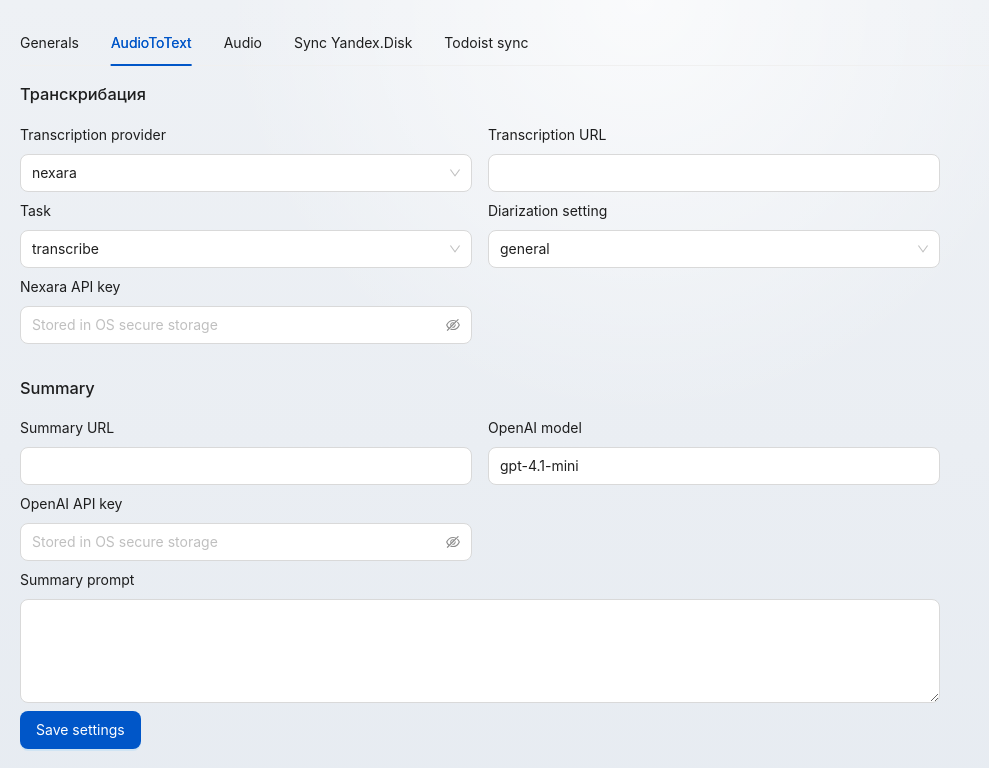
Test: App settings window › loads settings and auto-detects system source
Click the tab "Audio". click: coordinates (243, 43)
box: [224,32,262,54]
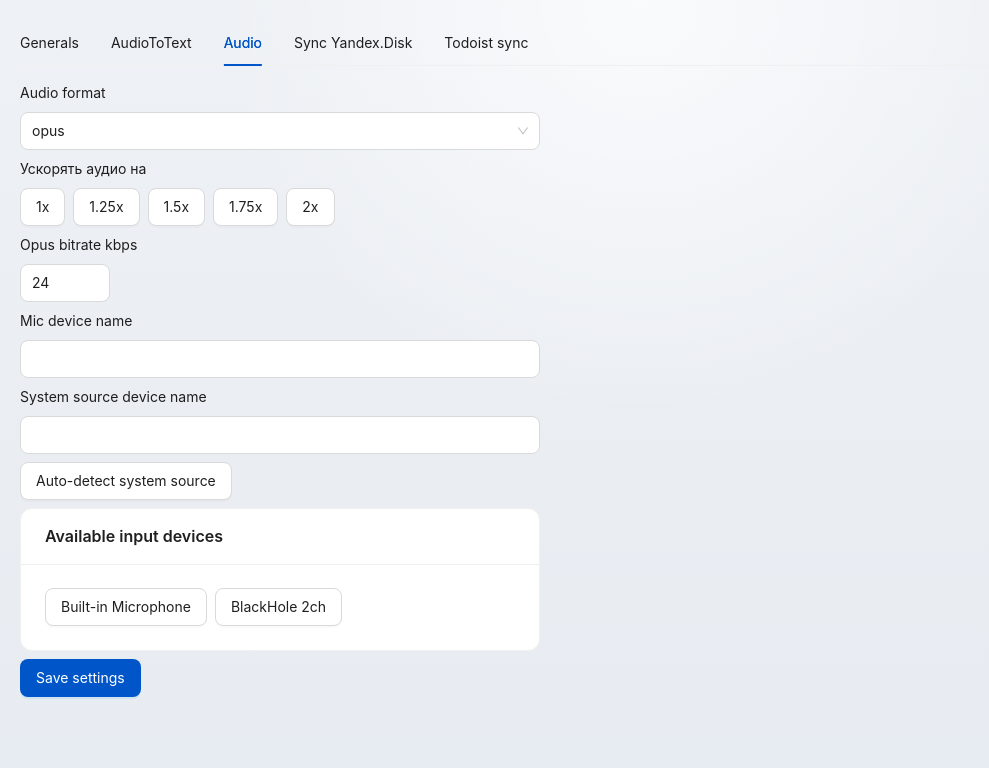
Click the button "Auto-detect system source". click: coordinates (126, 481)
box: [20,462,232,500]
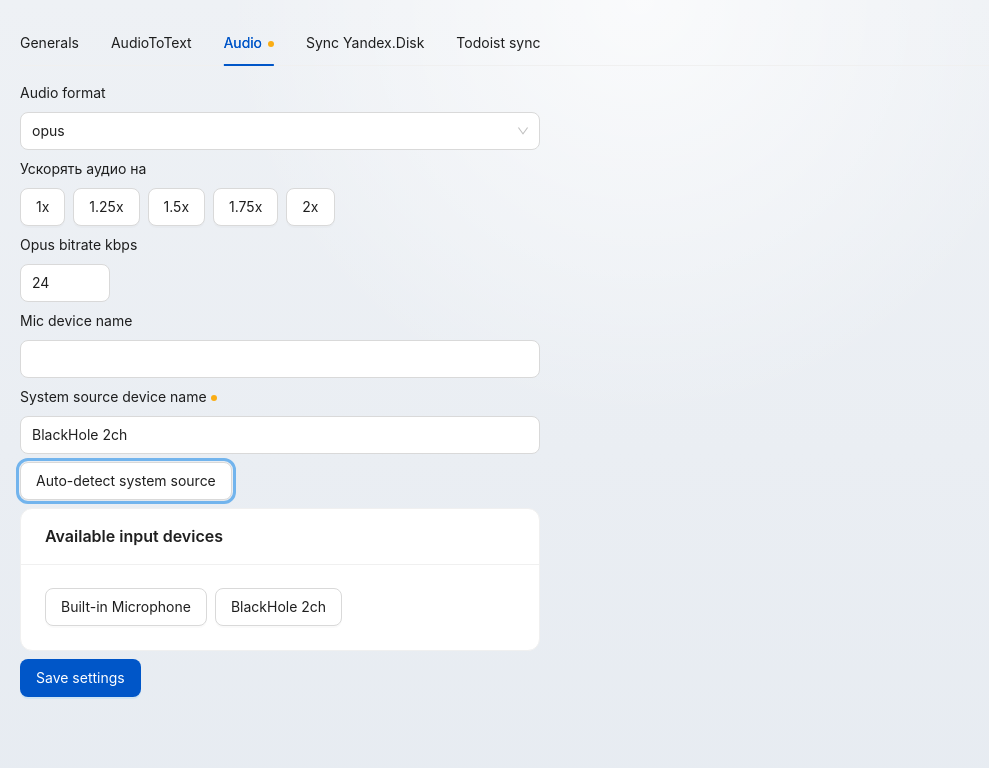
Expected: the field showing "BlackHole 2ch" is shown, [20,416,540,454]
